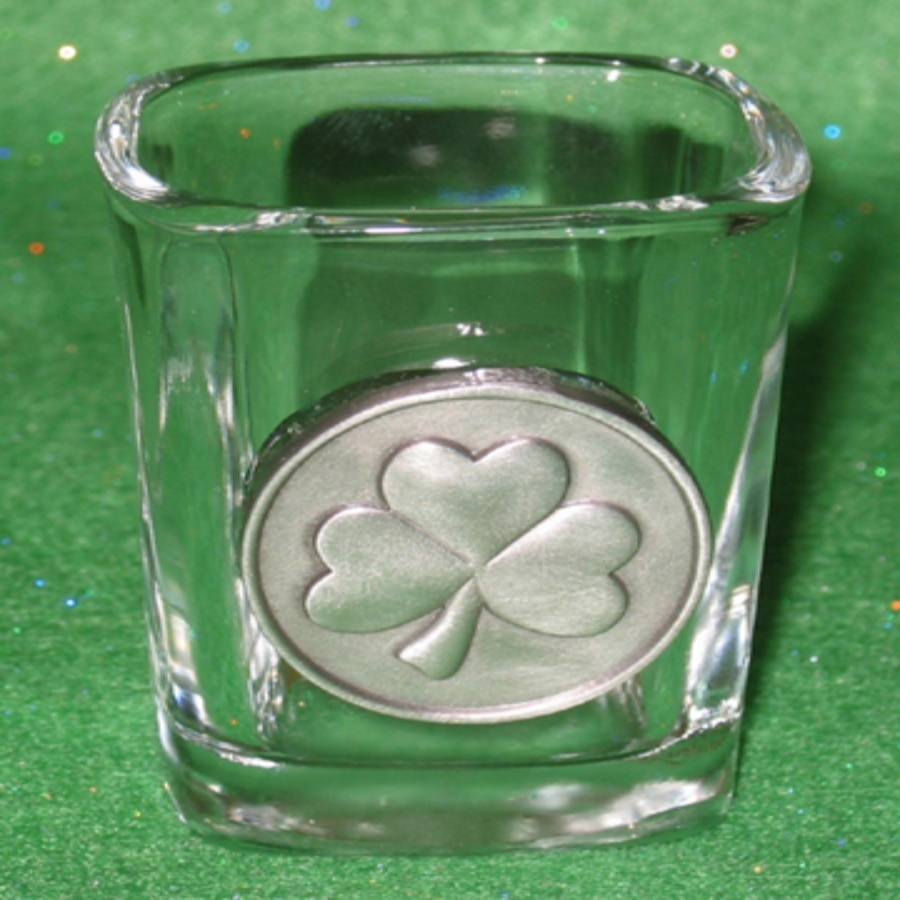whiskey: (105, 54, 778, 835)
